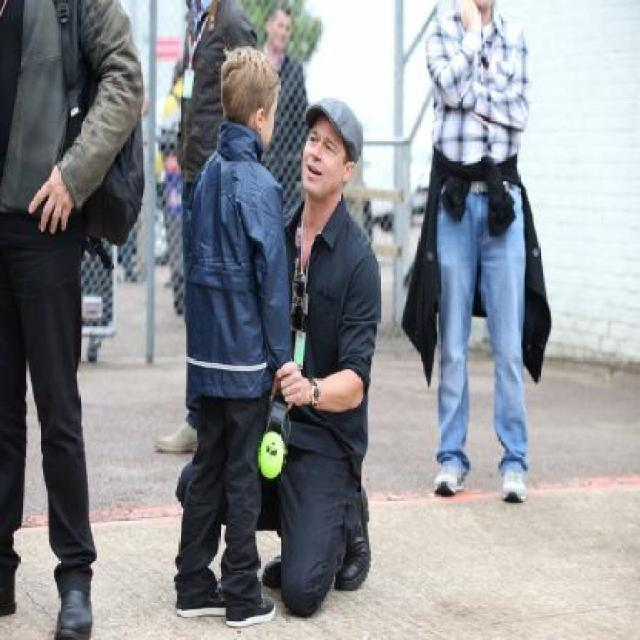sem_oculos: (303, 125, 359, 163), (240, 101, 284, 118), (271, 18, 294, 36)
